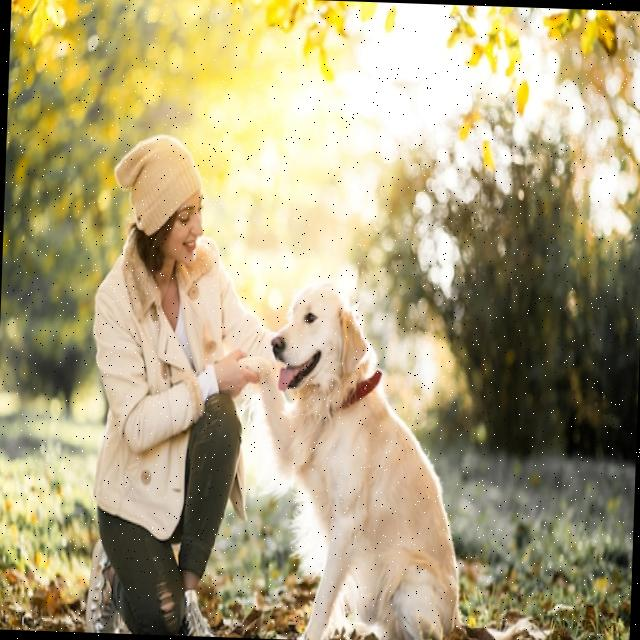Dog: (234, 274, 470, 640)
Person: (82, 129, 281, 638)
